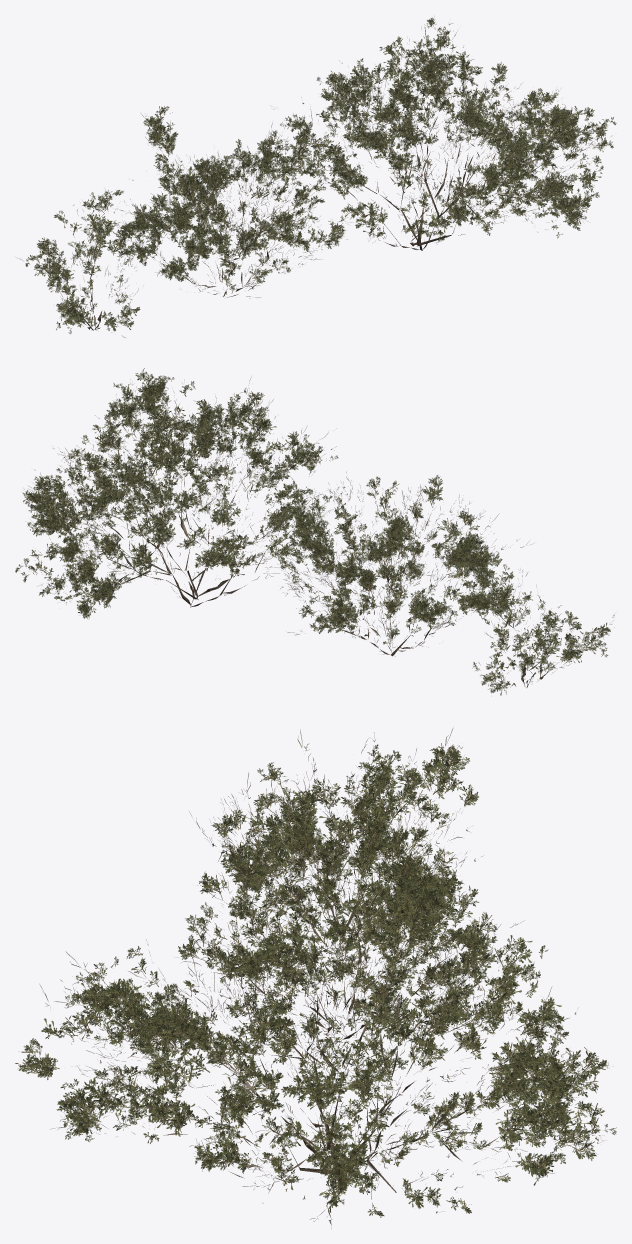
The model's file is searsia_tree.glb.
3 views of the same model, one above another, from view 1: azimuth 30°, elevation 25°; view 2: azimuth 150°, elevation 25°; view 3: azimuth 270°, elevation 25° (orthographic). The views are drawn at different scales.
Visible parts, largest first — view 1: searsia_burchellii_large_LOD0, searsia_burchellii_medium_LOD0, searsia_burchellii_small_LOD0; view 2: searsia_burchellii_large_LOD0, searsia_burchellii_medium_LOD0, searsia_burchellii_small_LOD0; view 3: searsia_burchellii_large_LOD0, searsia_burchellii_medium_LOD0, searsia_burchellii_small_LOD0.
Boxes of the visible parts, left/top/right/bottom form: searsia_burchellii_large_LOD0: left=280, top=17, right=616, bottom=250; searsia_burchellii_medium_LOD0: left=114, top=106, right=351, bottom=298; searsia_burchellii_small_LOD0: left=17, top=190, right=140, bottom=337; searsia_burchellii_large_LOD0: left=15, top=368, right=338, bottom=619; searsia_burchellii_medium_LOD0: left=278, top=471, right=531, bottom=656; searsia_burchellii_small_LOD0: left=461, top=556, right=614, bottom=695; searsia_burchellii_large_LOD0: left=15, top=862, right=616, bottom=1228; searsia_burchellii_medium_LOD0: left=178, top=727, right=483, bottom=1064; searsia_burchellii_small_LOD0: left=220, top=732, right=464, bottom=936.
Size of what is drawn, in the model's own units: 8.34 by 3.19 by 5.05.
Materials: 3 (3 with a texture image).
